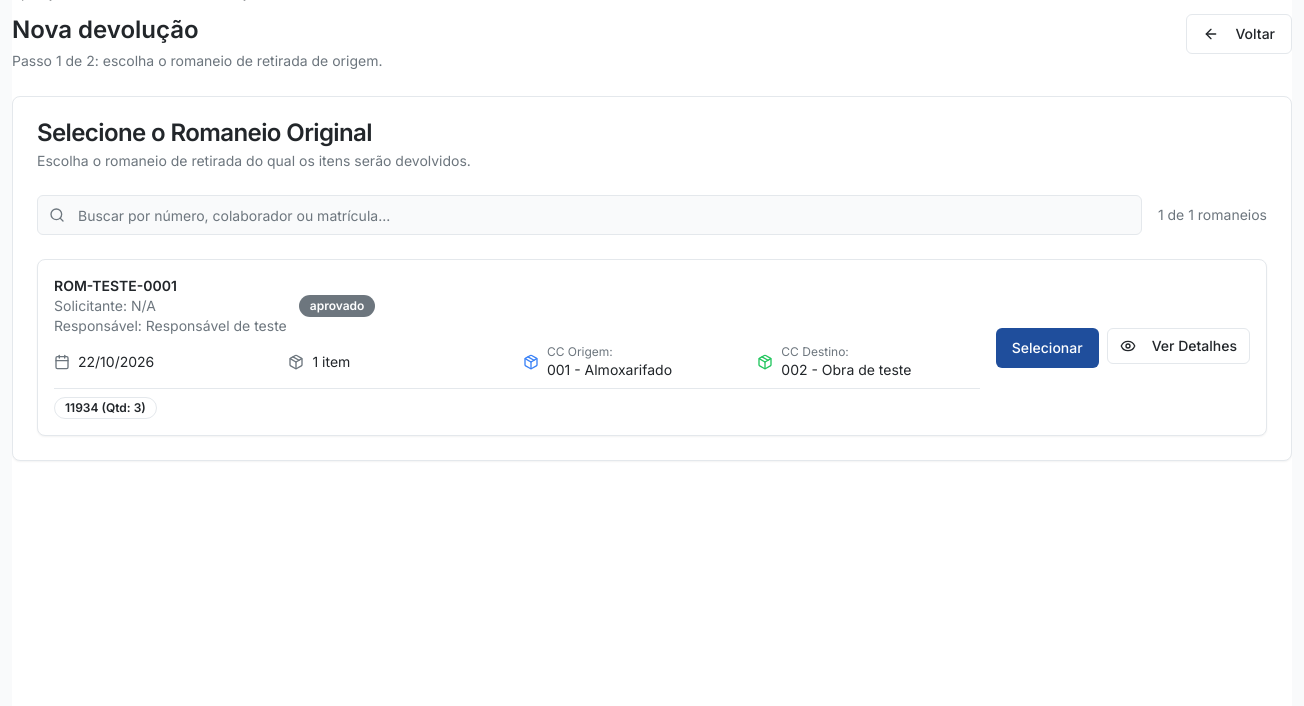
Test: devolução mostra nome e unidade do item fora do catálogo e mantém o saldo restante
The width and height of the screenshot is (1304, 706).
Click the button "Selecionar". click: coordinates (1047, 348)
box: [996,328,1099,368]
(page scrolled)
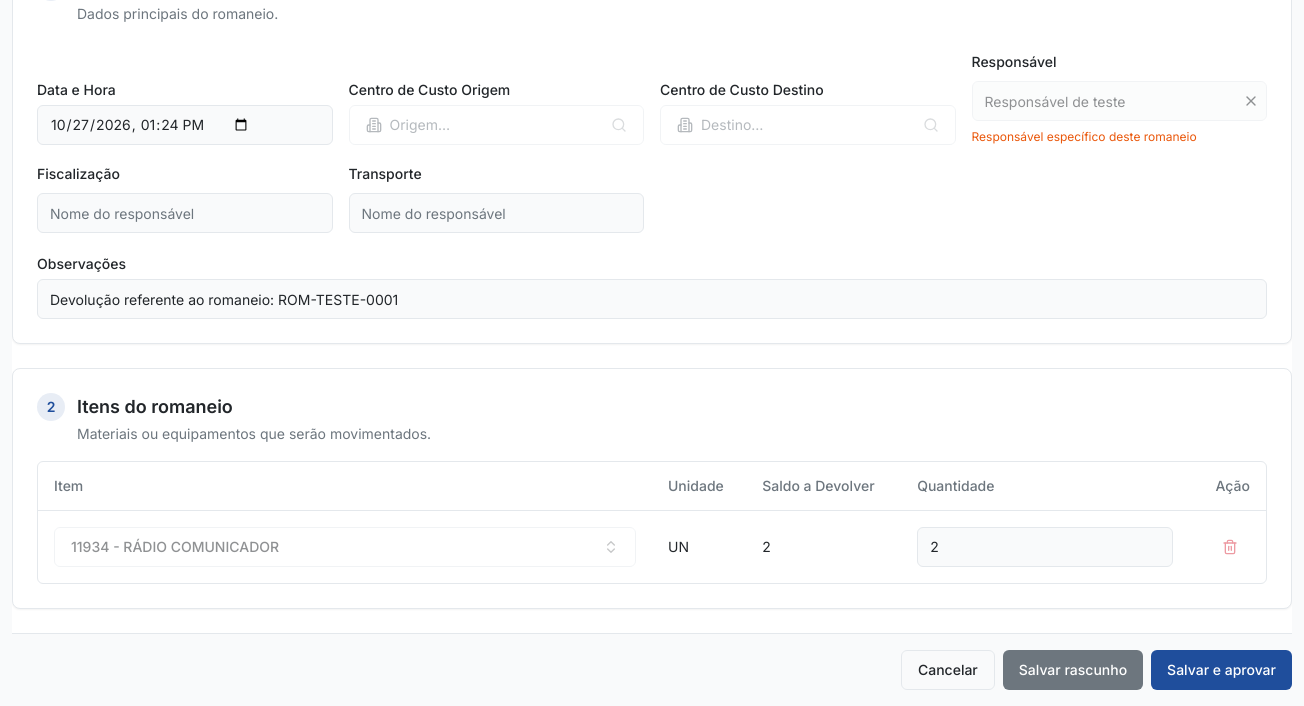
Expected: the dropdown "11934 - RÁDIO COMUNICADOR" is disabled, [54,526,636,566]
Expected: the cell "UN" is shown, [652,510,746,582]
Expected: the number field holds "2", [917,526,1173,566]
